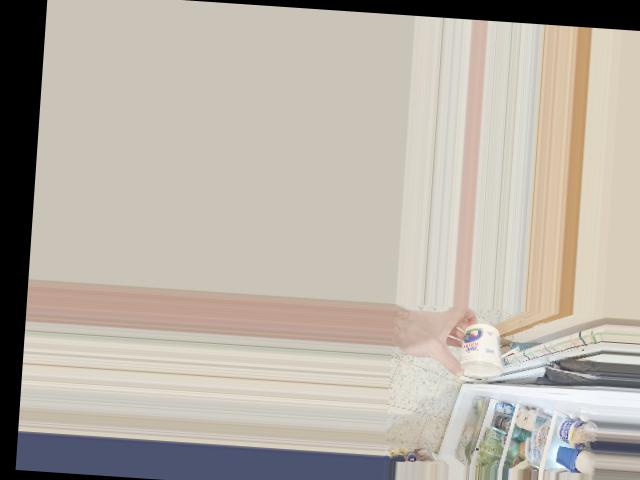cotage: (456, 321, 503, 375)
